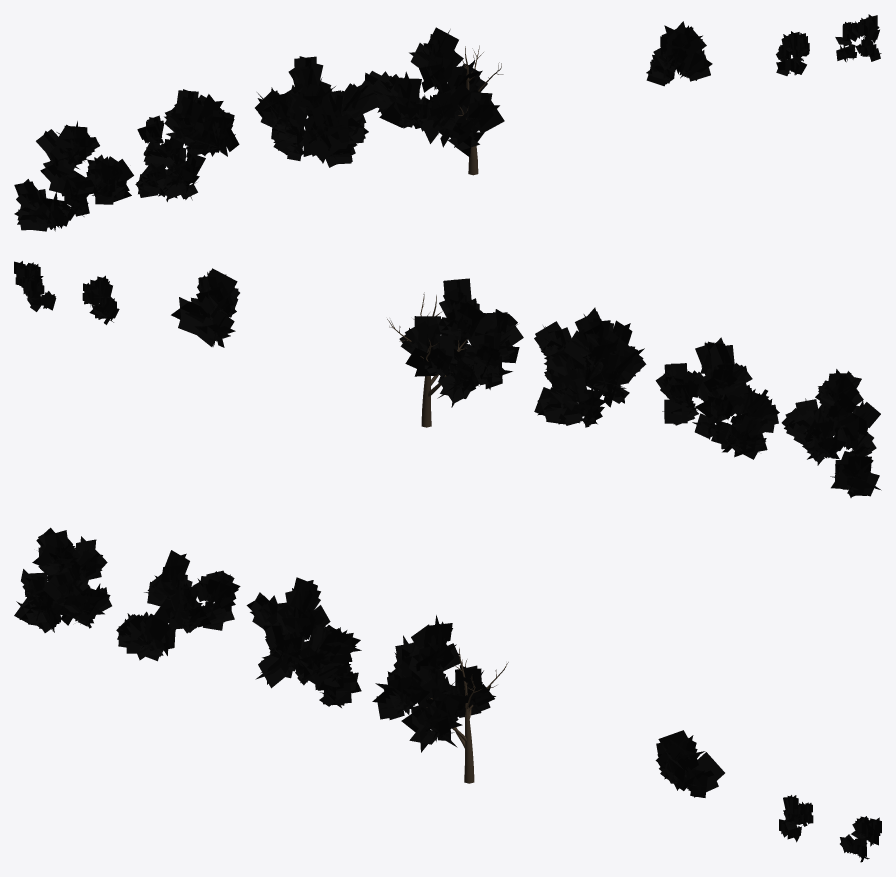
Rendered from no_leaves_tree_nine.glb.
The picture shows the model from 3 angles, top to bottom: view 1: azimuth 30°, elevation 25°; view 2: azimuth 150°, elevation 25°; view 3: azimuth 330°, elevation 25°; orthographic projection. The views are drawn at different scales.
Visible parts, largest first — view 1: leaves.004_9.007, leaves.003_6.007, leaves.001_0.008, leaves.002_3.007, leaves.007_18.008, leaves.010_24.008, leaves.009_27.008, trunk.002_4.008; view 2: leaves.004_9.007, leaves.003_6.007, leaves.002_3.007, leaves.001_0.008, leaves.007_18.008, leaves.010_24.008, leaves.009_27.008, trunk.002_4.008; view 3: leaves.004_9.007, leaves.003_6.007, leaves.002_3.007, leaves.001_0.008, leaves.007_18.008, leaves.010_24.008, leaves.009_27.008, trunk.002_4.008.
Part boxes in pixels (<box>): leaves.004_9.007: <box>362,27,504,157</box>; leaves.003_6.007: <box>255,56,380,167</box>; leaves.001_0.008: <box>14,121,133,231</box>; leaves.002_3.007: <box>135,89,239,201</box>; leaves.007_18.008: <box>646,21,712,86</box>; leaves.010_24.008: <box>835,14,881,62</box>; leaves.009_27.008: <box>776,31,809,75</box>; trunk.002_4.008: <box>458,45,503,175</box>; leaves.004_9.007: <box>399,278,523,407</box>; leaves.003_6.007: <box>534,307,646,427</box>; leaves.002_3.007: <box>655,337,779,459</box>; leaves.001_0.008: <box>781,369,881,497</box>; leaves.007_18.008: <box>171,268,239,347</box>; leaves.010_24.008: <box>14,261,56,311</box>; leaves.009_27.008: <box>82,275,119,324</box>; trunk.002_4.008: <box>387,292,466,427</box>; leaves.004_9.007: <box>372,615,495,752</box>; leaves.003_6.007: <box>246,577,361,707</box>; leaves.002_3.007: <box>116,550,240,661</box>; leaves.001_0.008: <box>14,527,111,632</box>; leaves.007_18.008: <box>655,730,724,797</box>; leaves.010_24.008: <box>840,816,881,862</box>; leaves.009_27.008: <box>779,795,813,842</box>; trunk.002_4.008: <box>426,648,508,783</box>.
Bounding box in the file's own units: 705 × 122 × 91.13.
Materials: 4 (4 with a texture image).
